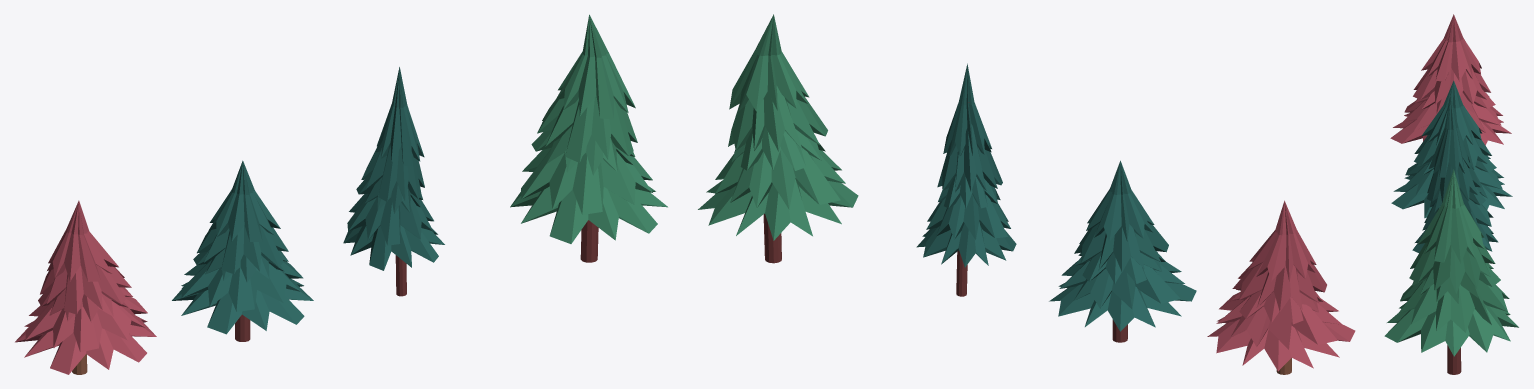
The model's file is treepack.fbx.
3 views of the same model, side by side, from view 1: azimuth 30°, elevation 25°; view 2: azimuth 150°, elevation 25°; view 3: azimuth 270°, elevation 25° (orthographic). The views are drawn at different scales.
Parts seen in each view (by area): view 1: Circle.003, Circle, Circle.001, Circle.002; view 2: Circle.003, Circle, Circle.001, Circle.002; view 3: Circle.003, Circle.001, Circle, Circle.002.
Boxes of the visible parts, x1=… form: Circle.003: x1=510, y1=14, x2=667, y2=262; Circle: x1=172, y1=160, x2=313, y2=341; Circle.001: x1=15, y1=200, x2=156, y2=374; Circle.002: x1=343, y1=67, x2=444, y2=296; Circle.003: x1=698, y1=14, x2=858, y2=263; Circle: x1=1049, y1=160, x2=1196, y2=342; Circle.001: x1=1207, y1=200, x2=1355, y2=374; Circle.002: x1=916, y1=63, x2=1016, y2=296; Circle.003: x1=1384, y1=169, x2=1518, y2=374; Circle.001: x1=1390, y1=14, x2=1511, y2=145; Circle: x1=1391, y1=80, x2=1512, y2=218; Circle.002: x1=1412, y1=95, x2=1498, y2=252.
Size of the model in its own units: 1023 by 379 by 229.
